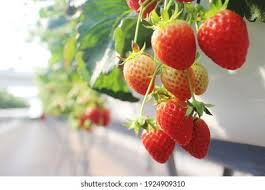ripe: (194, 9, 253, 80), (150, 17, 199, 74), (176, 105, 210, 169), (156, 99, 194, 142), (157, 64, 195, 104), (143, 117, 174, 164), (84, 100, 113, 131), (127, 1, 160, 19)
unripe: (120, 46, 159, 103), (195, 61, 211, 100)
